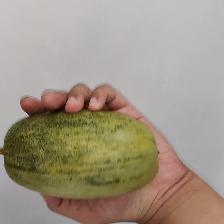gua: (27, 119, 152, 187)
